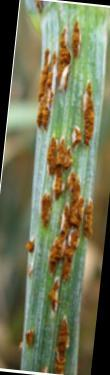Wheat: (39, 14, 95, 173), (28, 262, 79, 372), (41, 178, 91, 256)
